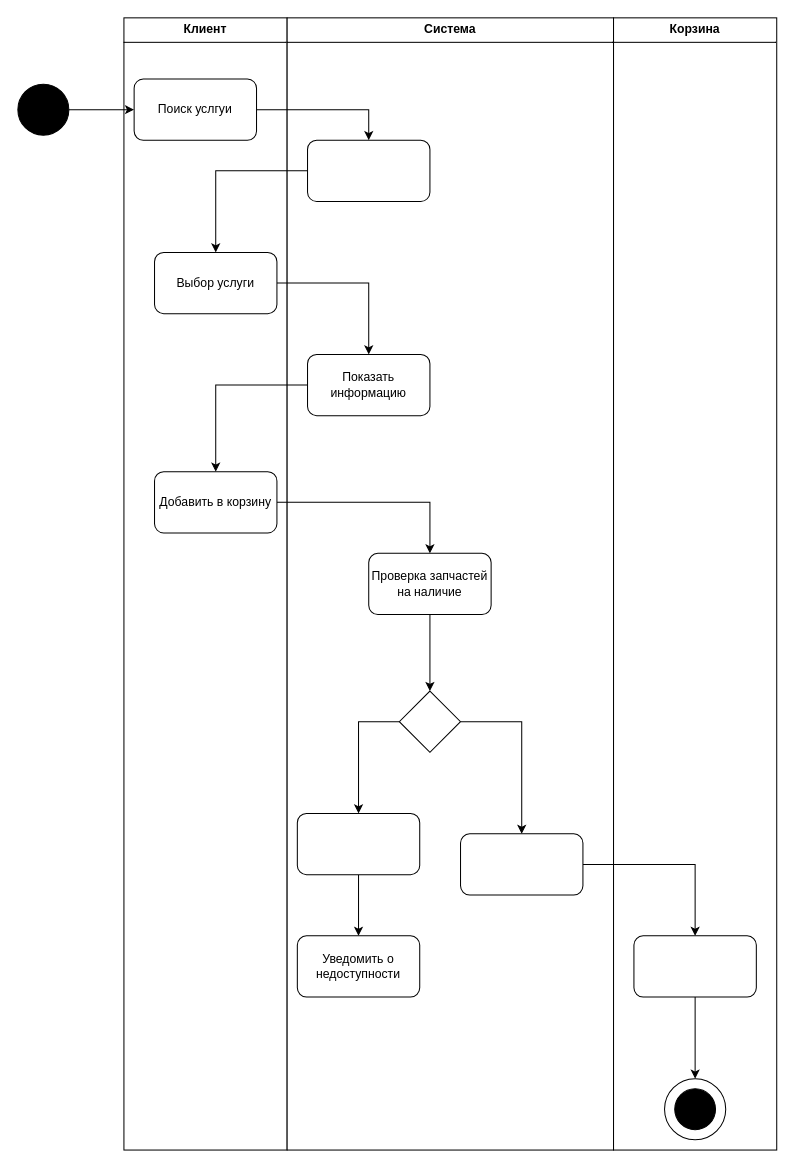
The diagram is 795 pixels wide and 1168 high, and some of its shapes have lost their labels. Here are the shapes that lost their labels. From the top down, the centre of each, then its label:
the point at 368,170: Показать результат поиска
the point at 358,843: Нет в наличии
the point at 521,864: Есть в наличии
the point at 694,966: Добавление в корзину
